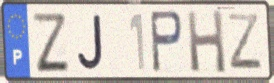1: (128, 12, 146, 72)
H: (185, 8, 228, 76)
J: (76, 13, 105, 73)
P: (148, 9, 185, 75)
Z: (30, 11, 72, 75), (225, 12, 264, 72)
